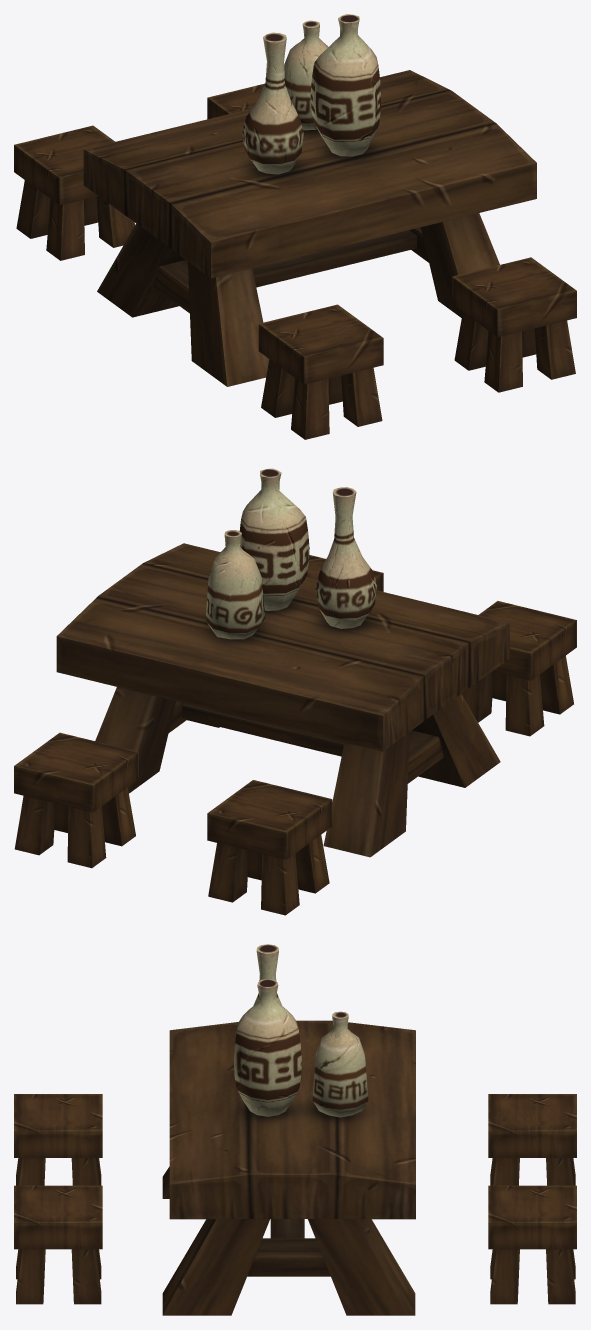
Rendered from modelTableAndChair.fbx.
3 renders of one model, top to bottom at view 1: azimuth 30°, elevation 25°; view 2: azimuth 150°, elevation 25°; view 3: azimuth 270°, elevation 25°, orthographic. The views are drawn at different scales.
Visible parts, largest first — view 1: modelTableAndChair; view 2: modelTableAndChair; view 3: modelTableAndChair.
Part boxes in pixels (box(x1,y1,x2,y2)): modelTableAndChair: box(14, 14, 576, 439); modelTableAndChair: box(14, 468, 576, 915); modelTableAndChair: box(14, 944, 576, 1315).
Size of the model in its own units: 20.86 by 17.44 by 32.15.
